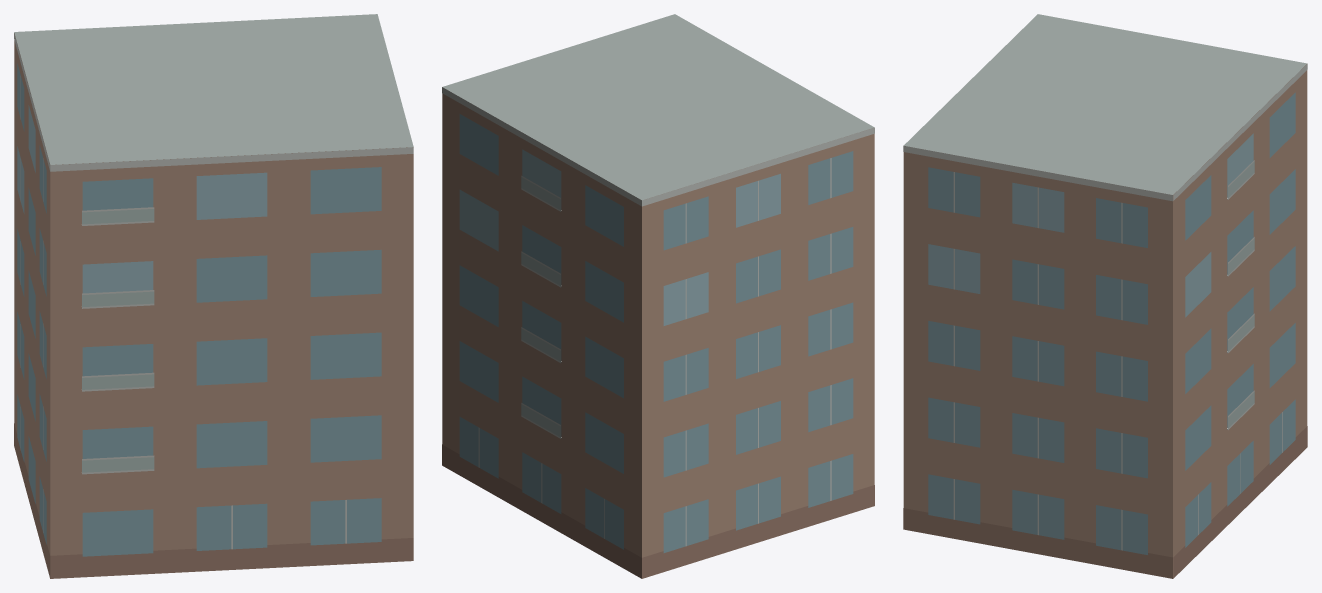
File: survey-upis-32531284.glb
3 renders of one model, left to right at view 1: azimuth 30°, elevation 25°; view 2: azimuth 150°, elevation 25°; view 3: azimuth 270°, elevation 25°, orthographic. The views are drawn at different scales.
Parts seen in each view (by area): view 1: survey-upis-32531284.tmp; view 2: survey-upis-32531284.tmp; view 3: survey-upis-32531284.tmp.
Boxes of the visible parts, x1,y1,x2,y2 form: survey-upis-32531284.tmp: [14, 14, 413, 578]; survey-upis-32531284.tmp: [442, 14, 874, 578]; survey-upis-32531284.tmp: [903, 14, 1307, 578].
Bounding box in the file's own units: 15.14 × 14.95 × 14.27.
